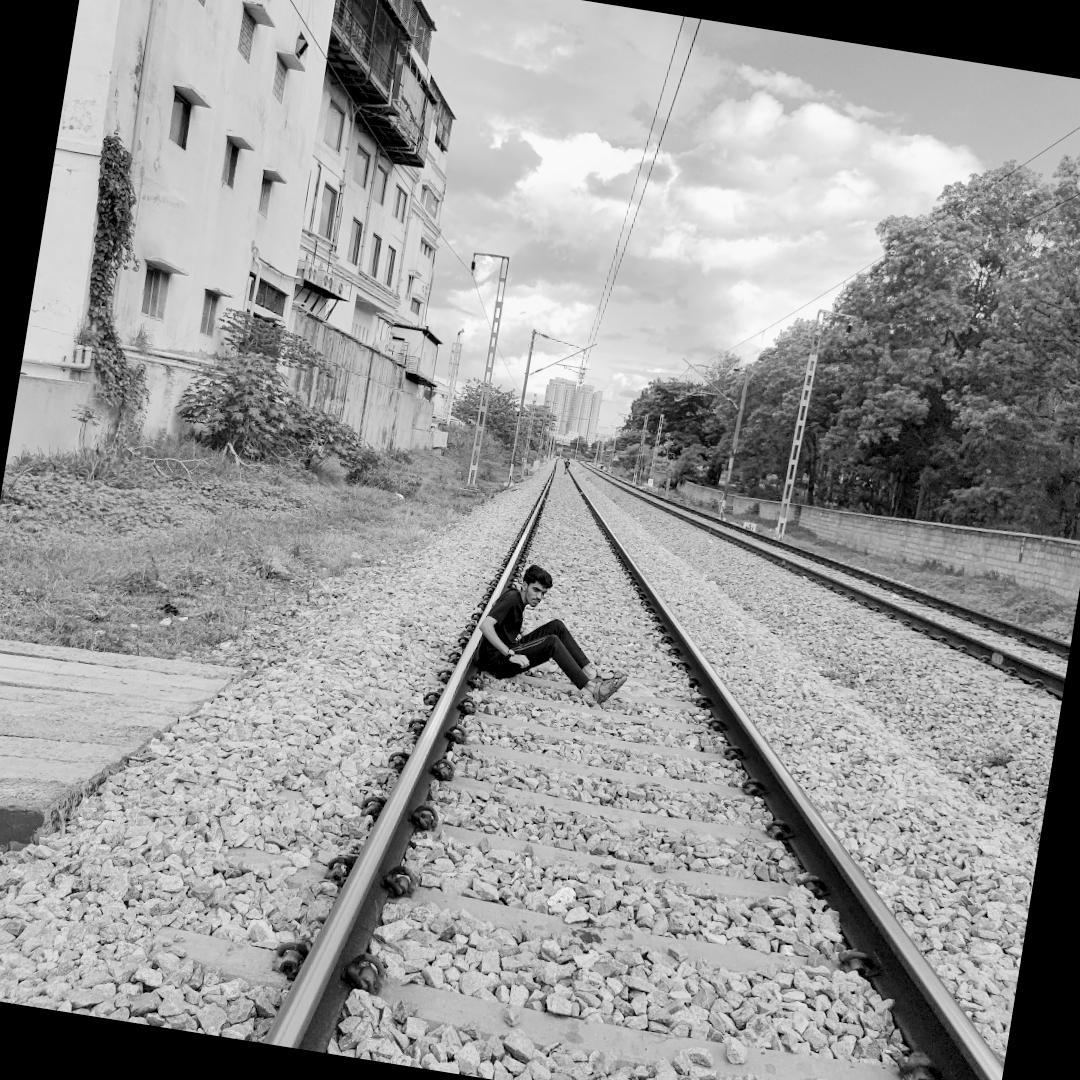sitting: (458, 545, 649, 711)
